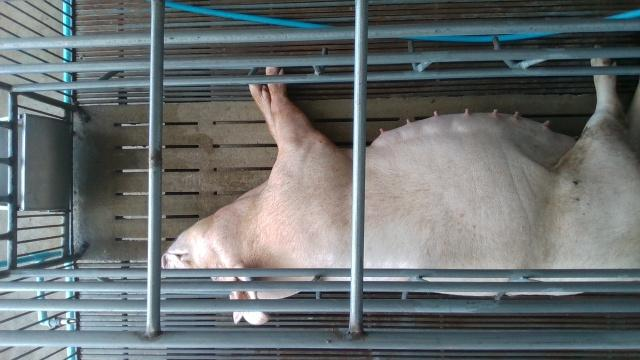sow-sleep-lactate: (159, 59, 640, 325)
